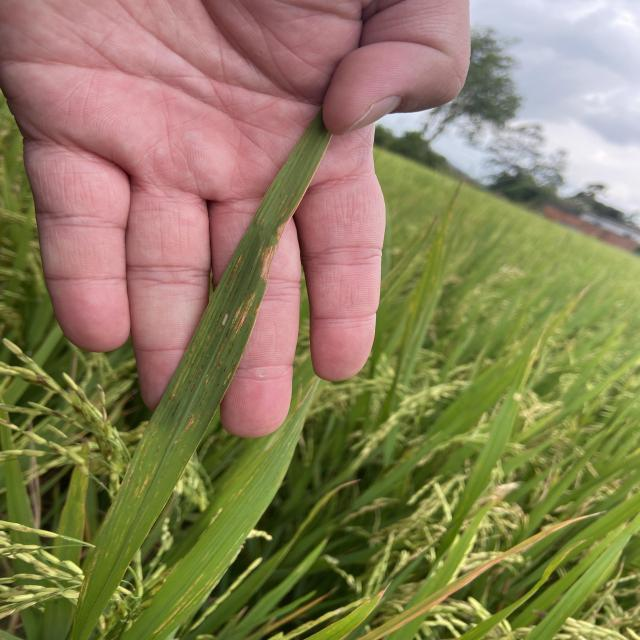Dom soc vi khuan: (209, 290, 248, 373), (229, 292, 256, 343), (225, 250, 245, 290), (189, 366, 204, 393), (180, 415, 195, 438), (218, 308, 232, 332), (275, 195, 288, 215)
